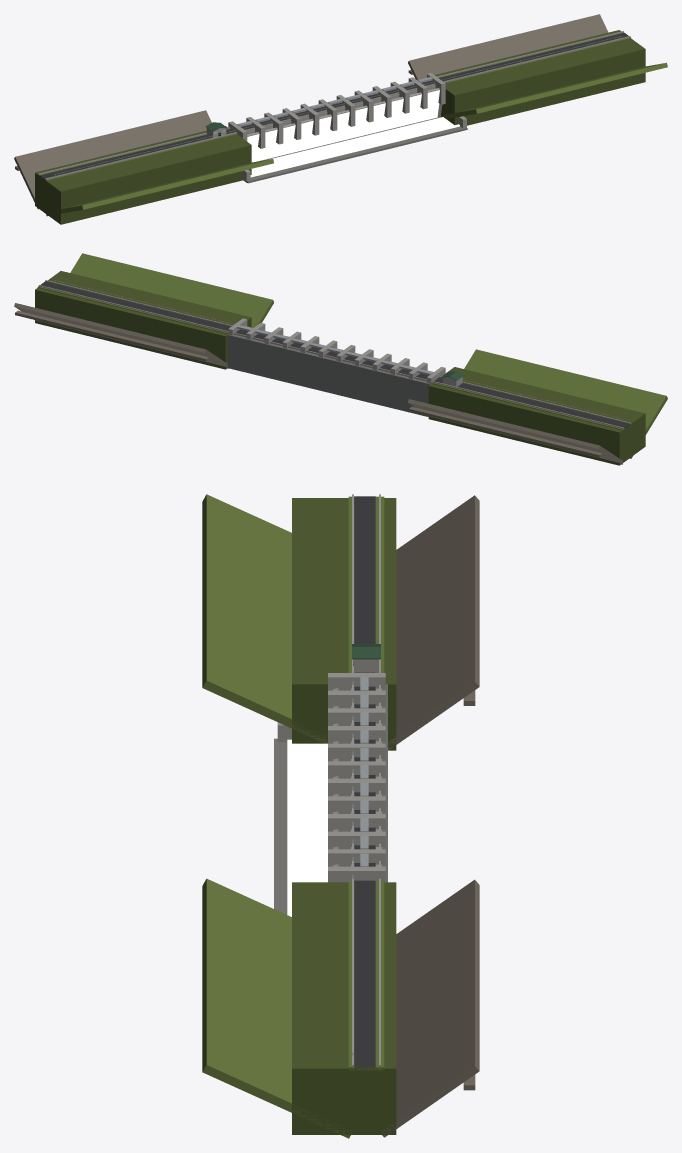
Rendered from jackson_lake_dam.glb.
The picture shows the model from 3 angles, top to bottom: view 1: azimuth 30°, elevation 25°; view 2: azimuth 150°, elevation 25°; view 3: azimuth 270°, elevation 25°; orthographic projection. The views are drawn at different scales.
Visible parts, largest first — view 1: jackson_lake_dam, embankment_w, embankment_e; view 2: embankment_w, embankment_e, jackson_lake_dam; view 3: embankment_e, embankment_w, jackson_lake_dam.
Boxes of the visible parts, x1,y1,x2,y2 form: jackson_lake_dam: (38, 31, 630, 183); embankment_w: (14, 110, 273, 224); embankment_e: (408, 14, 667, 125); embankment_w: (408, 349, 667, 465); embankment_e: (14, 253, 273, 369); jackson_lake_dam: (38, 280, 630, 428); embankment_e: (202, 878, 479, 1138); embankment_w: (202, 494, 479, 750); jackson_lake_dam: (274, 494, 387, 1068).
Size of the model in its own units: 350 by 26.06 by 71.85.
